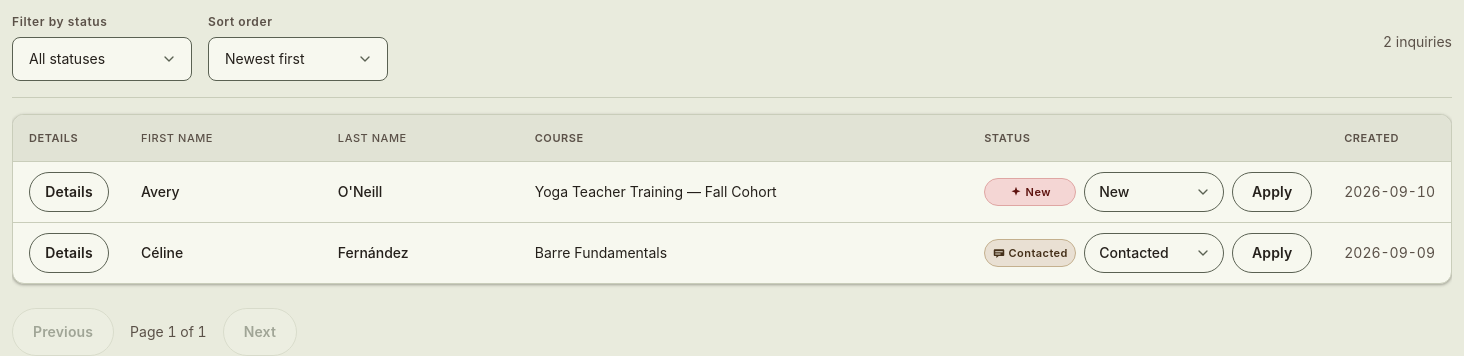
Test case: IT-UI-014 detail 404 announces gone, clears the panel, and refreshes the list › explains the record is gone and reconciles from a fresh list
(page scrolled)
Check: the row "O'Neill" is shown, box left=13, top=162, right=1451, bottom=222
What coordinates should you click on to do the following:
click the button with aria-label "details for Avery O'Neill"
I would click on:
 (69, 192)
Its box is left=29, top=172, right=109, bottom=212.
(page scrolled)
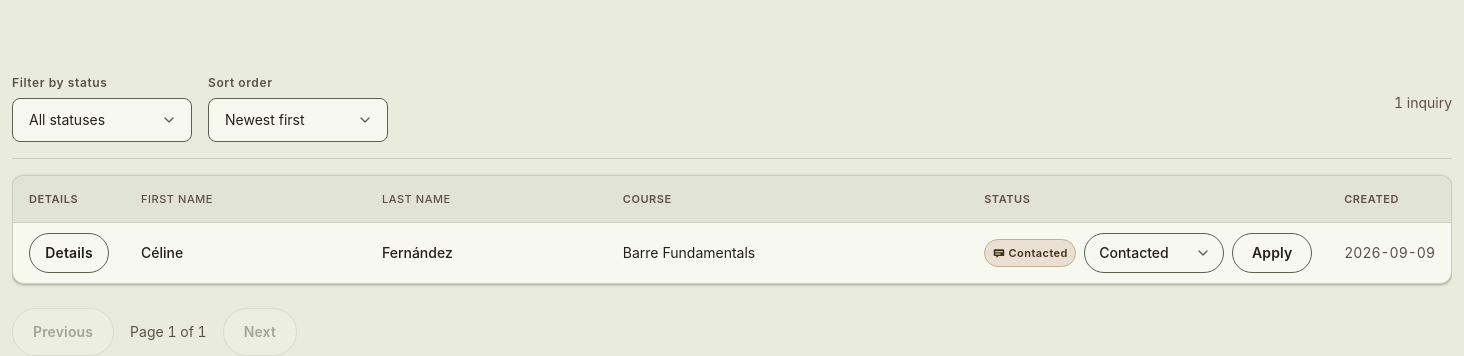
Check: the row "Fernández" is shown, box left=13, top=223, right=1451, bottom=283
Check: the cell "O'Neill" is gone
